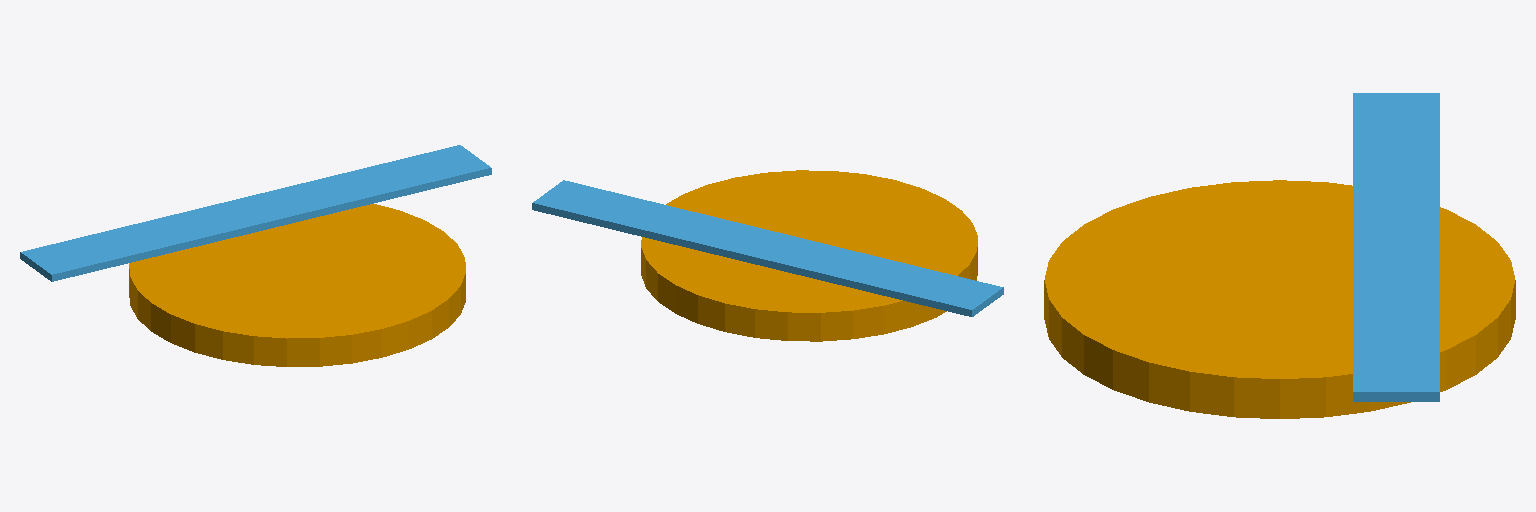
The robot description file, URDF, robot "BloodSport":
<?xml version="1.0"?>
<robot name="BloodSport">
  <link name="base_link">
    <visual>
      <geometry>
        <cylinder length="0.0762" radius="0.406"/>
      </geometry>
    </visual>
    <collision>
      <geometry>
        <cylinder length="0.0762" radius="0.406"/>
      </geometry>
    </collision>
    <inertial>
      <mass value="90"/>
      <inertia ixx="3.8" ixy="0.0" ixz="0.0" iyy="3.8" iyz="0.0" izz="7.4"/>
    </inertial>
  </link>
  <link name="weapon">
    <visual>
      <origin rpy="0 0 0" xyz="0 0.2 0.1"/>
      <geometry>
        <box size="1.22 0.15 0.019"/>
      </geometry>
    </visual>
    <collision>
      <origin rpy="0 0 0" xyz="0 0.2 0.1"/>
      <geometry>
        <box size="1.22 0.15 0.019"/>
      </geometry>
    </collision>
    <inertial>
      <origin rpy="0 0 0" xyz="0 0.2 0.1"/>
      <mass value="2.393E+01"/>
      <inertia ixx="0.05556" ixy="-4.878E-15" ixz="-5.582E-3" iyy="2.474" iyz="-7.068E-18" izz="2.420"/>
    </inertial>
  </link>

  <joint name="base_to_weapon" type="continuous">
    <parent link="base_link"/>
    <child link="weapon"/>
    <origin xyz="0 0 0" rpy="0 0 0"/>
    <axis xyz="0 0 1"/>

    <limit effort="50" velocity="150.0"/>
  </joint>


  <transmission name="spinner">
    <type>transmission_interface/SimpleTransmission</type>
    <actuator name="$scorpion">
      <mechanicalReduction>1</mechanicalReduction>
    </actuator>
    <joint name="base_to_weapon">
      <hardwareInterface>VelocityJointInterface</hardwareInterface>
    </joint>
  </transmission>






  <gazebo>
    <plugin name="gazebo_ros_control" filename="libgazebo_ros_control.so">
      <robotNamespace>/</robotNamespace>
    </plugin>
  </gazebo>
</robot>

--- What the picture shows (computed from the rendered views, not written in the file) ---
Views: 3 orthographic renders of the robot side by side, from view 1: azimuth 30°, elevation 25°; view 2: azimuth 150°, elevation 25°; view 3: azimuth 270°, elevation 25°.
Robot: BloodSport — 2 links, 1 joints (1 continuous); root link base_link; default pose: every joint at zero.
Visible links, largest first — view 1: base_link, weapon; view 2: base_link, weapon; view 3: base_link, weapon.
Boxes of the visible links, left/top/right/bottom form: base_link: left=129, top=204, right=465, bottom=366; weapon: left=20, top=145, right=491, bottom=281; base_link: left=641, top=170, right=977, bottom=341; weapon: left=532, top=180, right=1003, bottom=316; base_link: left=1044, top=180, right=1515, bottom=418; weapon: left=1353, top=93, right=1439, bottom=401.
Size in the robot's own frame: 1.22 by 0.812 by 0.1476 metres.
Geometry: primitives only (box / cylinder / sphere), no mesh files.